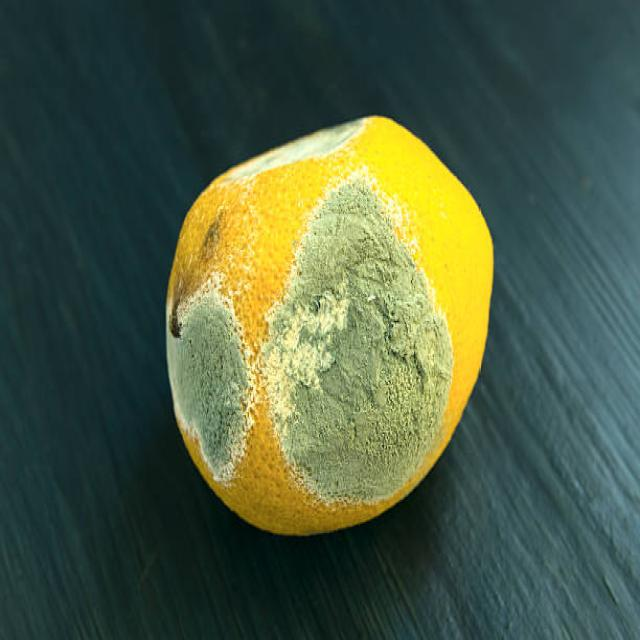Rotten: (165, 114, 493, 538)
